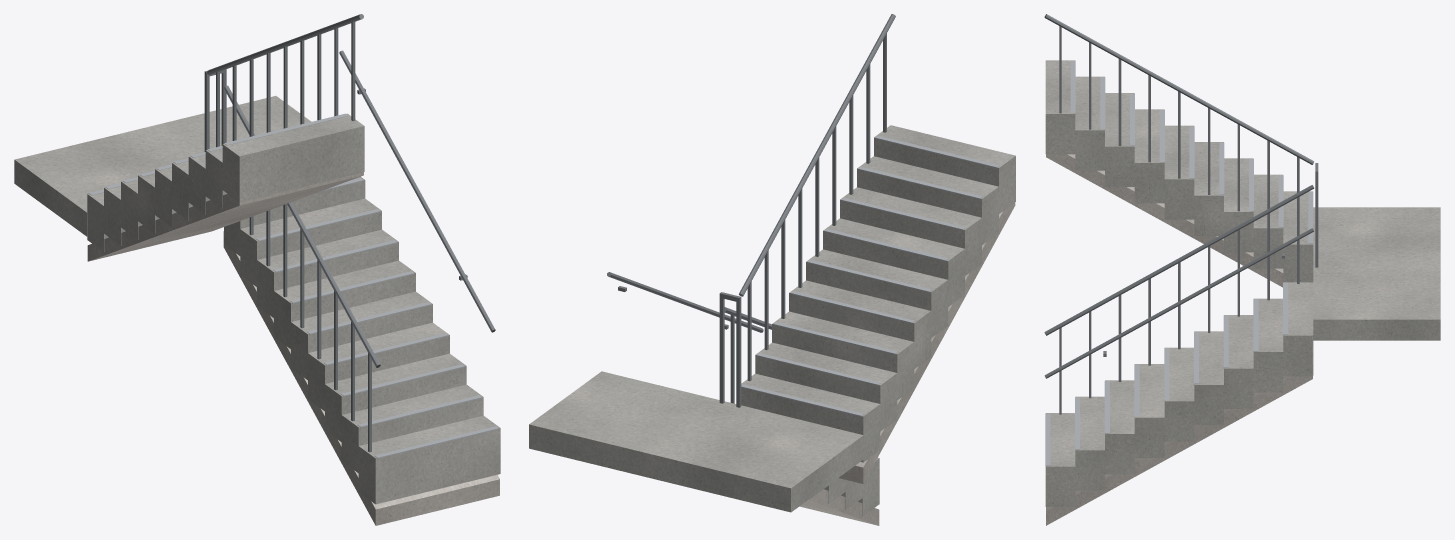
File: stair_storey.glb
The picture shows the model from 3 angles, left to right: view 1: azimuth 30°, elevation 25°; view 2: azimuth 150°, elevation 25°; view 3: azimuth 270°, elevation 25°; orthographic projection. The views are drawn at different scales.
Parts seen in each view (by area): view 1: stair_storey_conc_s, stair_storey_steel_d, stair_storey_concrete, stair_storey_steel; view 2: stair_storey_conc_s, stair_storey_steel_d, stair_storey_steel, stair_storey_concrete; view 3: stair_storey_conc_s, stair_storey_steel_d, stair_storey_concrete, stair_storey_steel.
Boxes of the visible parts, x1=… form: stair_storey_conc_s: x1=14, y1=96, x2=500, y2=504; stair_storey_steel_d: x1=204, y1=14, x2=495, y2=452; stair_storey_concrete: x1=87, y1=172, x2=499, y2=525; stair_storey_steel: x1=88, y1=113, x2=498, y2=458; stair_storey_conc_s: x1=529, y1=125, x2=1015, y2=516; stair_storey_steel_d: x1=607, y1=14, x2=895, y2=407; stair_storey_steel: x1=741, y1=135, x2=999, y2=416; stair_storey_concrete: x1=799, y1=202, x2=1015, y2=525; stair_storey_conc_s: x1=1045, y1=60, x2=1440, y2=506; stair_storey_steel_d: x1=1044, y1=14, x2=1318, y2=414; stair_storey_concrete: x1=1046, y1=154, x2=1312, y2=525; stair_storey_steel: x1=1045, y1=60, x2=1313, y2=465.
Size of the model in its own units: 2.5 by 4.7 by 3.73.
4 materials, 2 textured.
